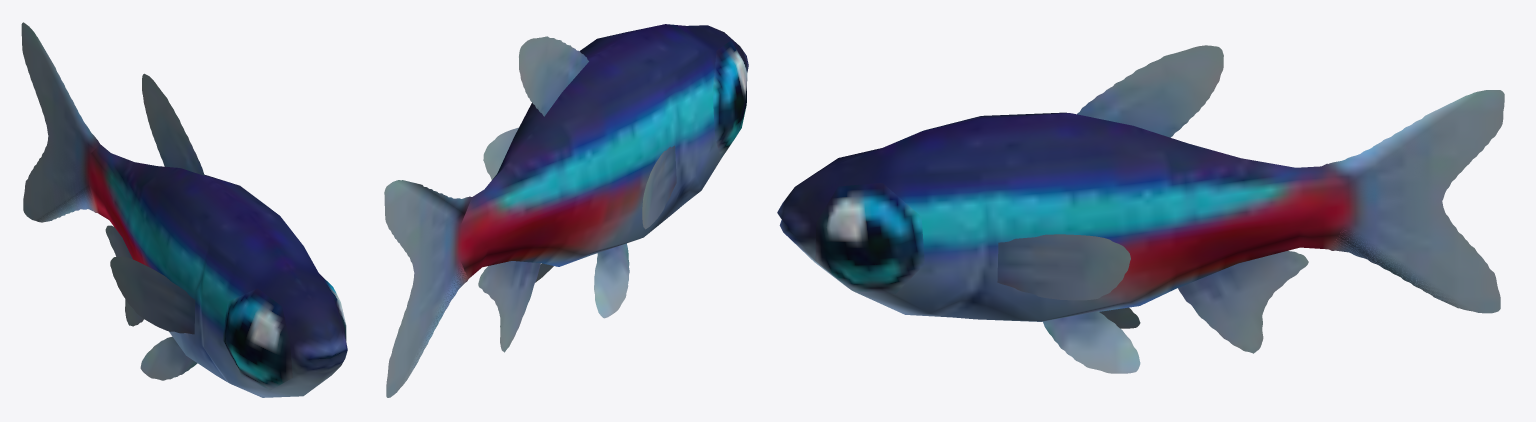
Rendered from neon-tetra.glb.
3 views of the same model, side by side, from view 1: azimuth 30°, elevation 25°; view 2: azimuth 150°, elevation 25°; view 3: azimuth 270°, elevation 25° (orthographic). The views are drawn at different scales.
Size of the model in its own units: 0.6077 by 1.21 by 2.21.
1 material, 1 textured.
